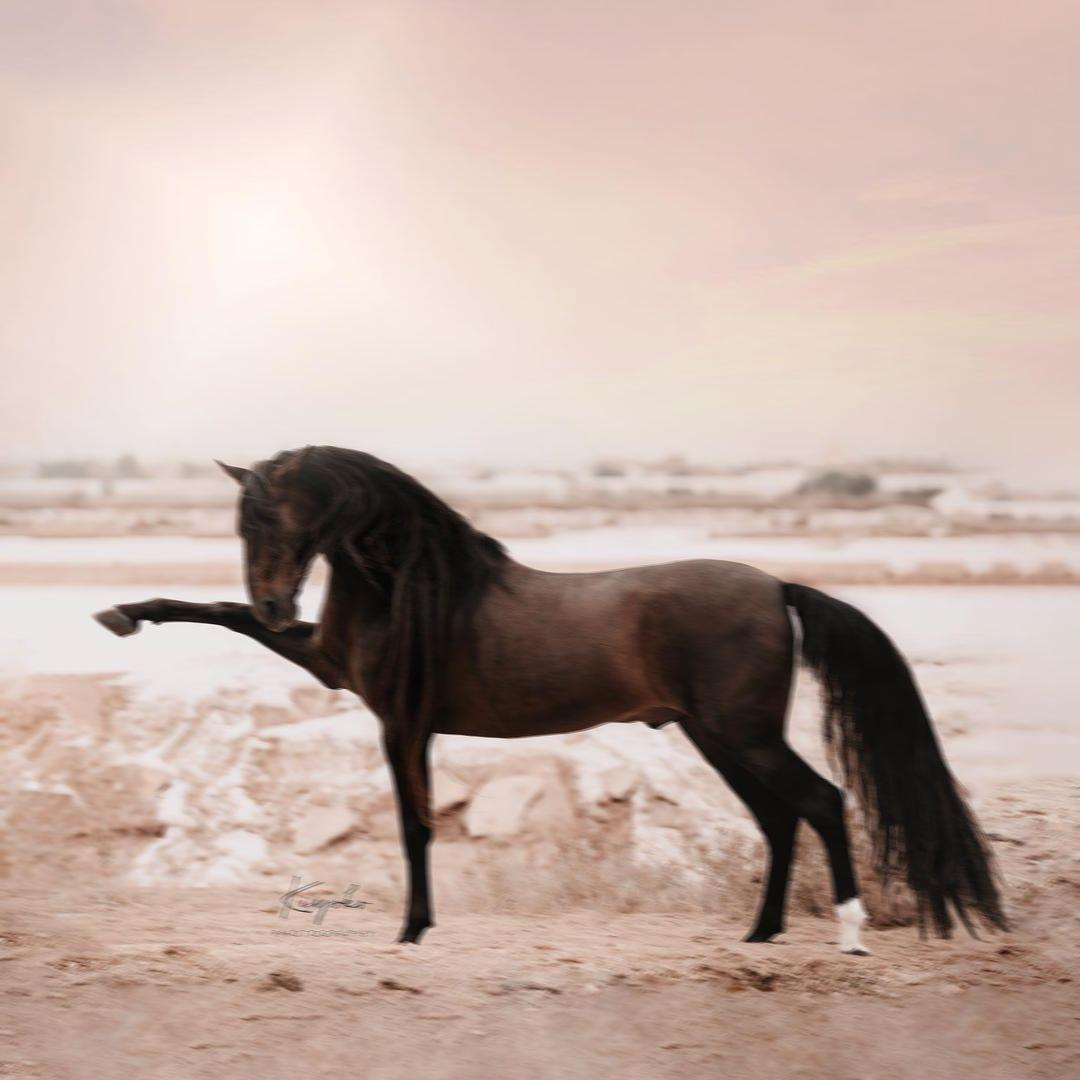horse: (90, 444, 1012, 960)
